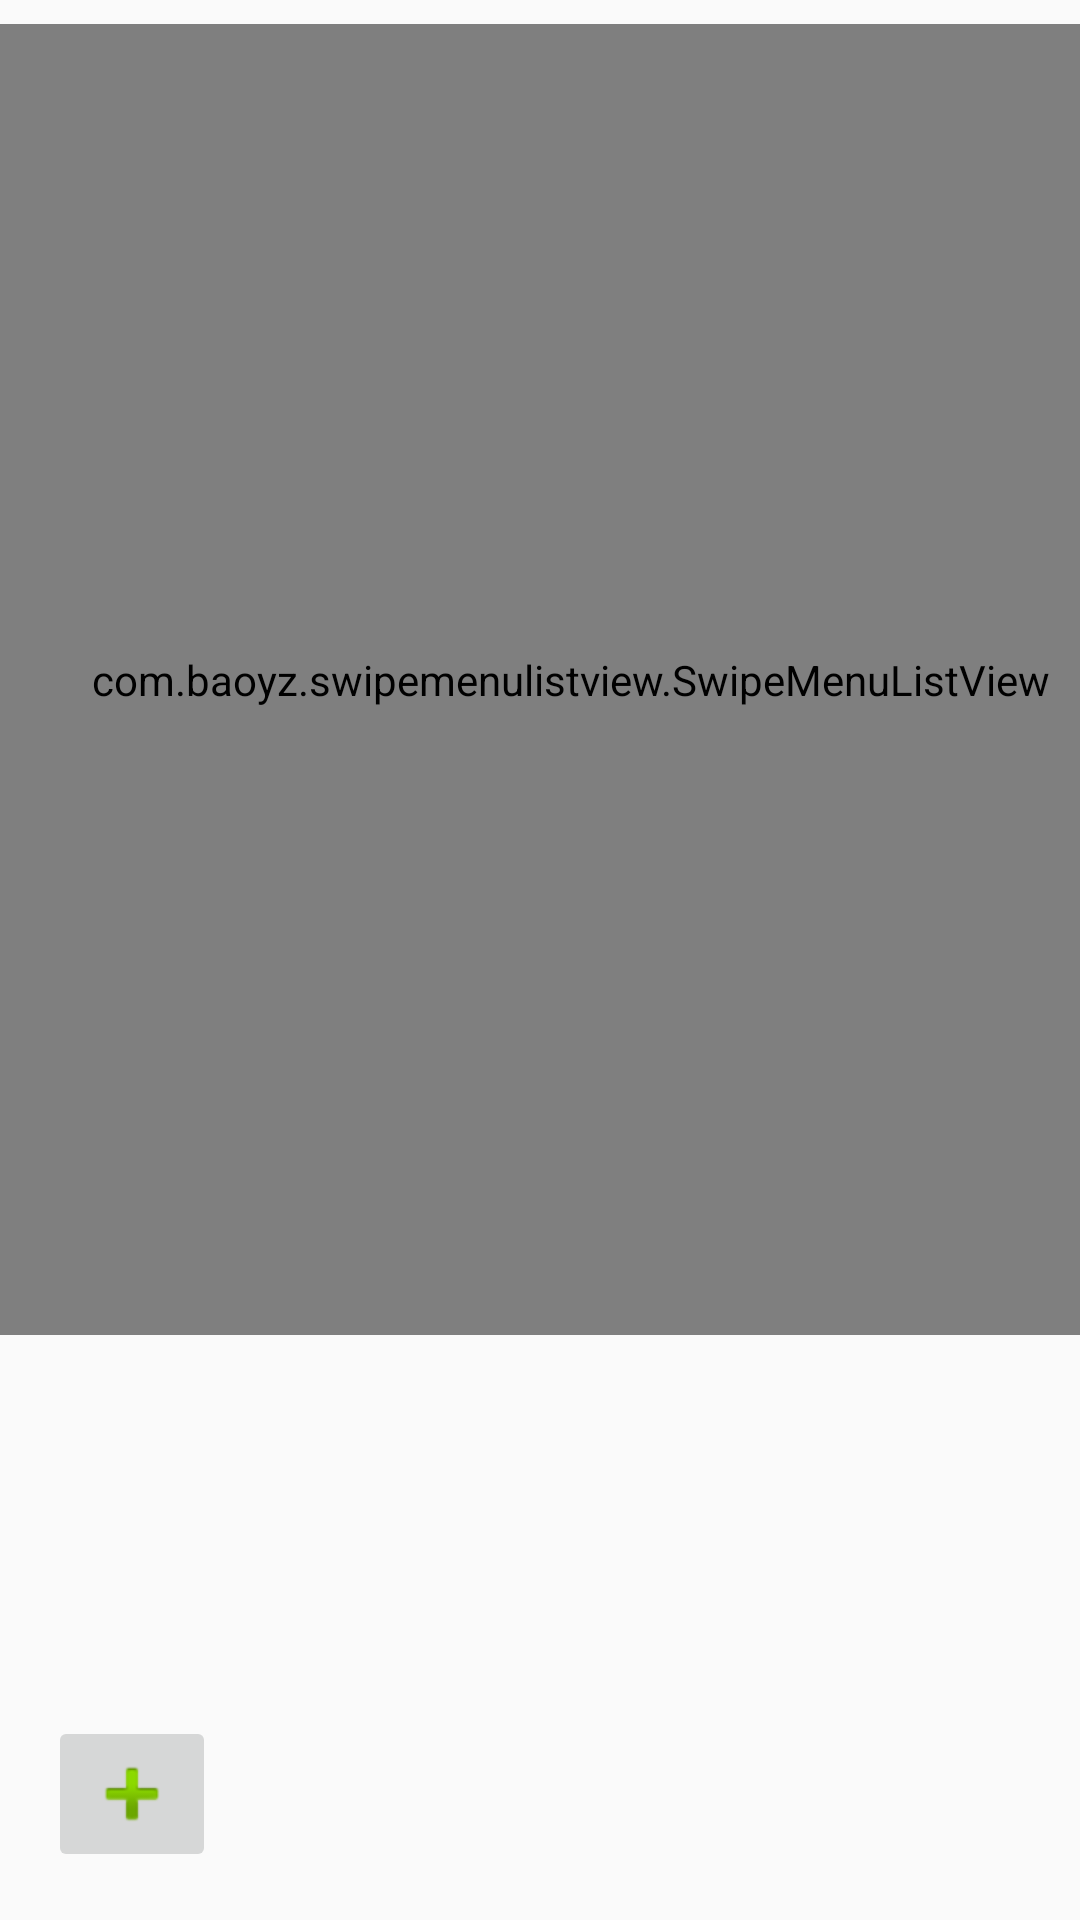

Where to tap for icons on this 1080 × 1920 app screen, as (x,y):
add: (132,1794)
